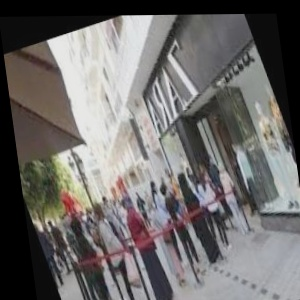zara: (116, 115, 292, 129)
